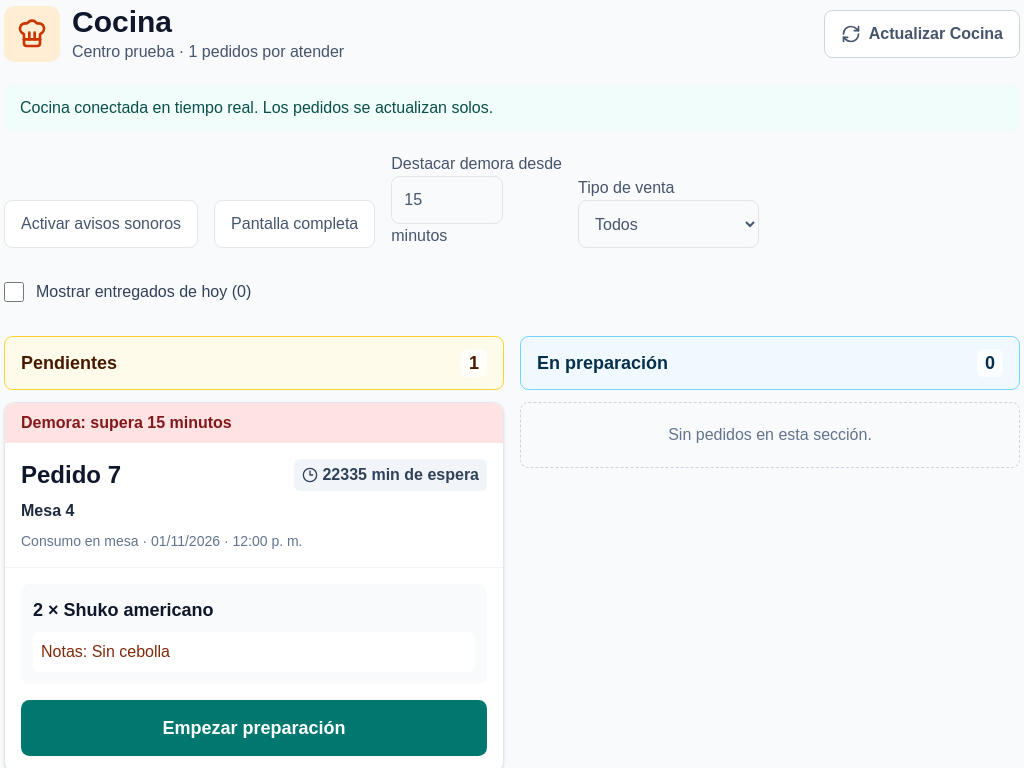
Scenario: Pantalla Cocina › un conflicto actualiza el estado y muestra el error sin confirmar un cambio fallido
This screenshot has width=1024, height=768.
Click the button with aria-label "Empezar preparación: pedido 7".
click(254, 728)  # box [21, 700, 487, 756]
(page scrolled)
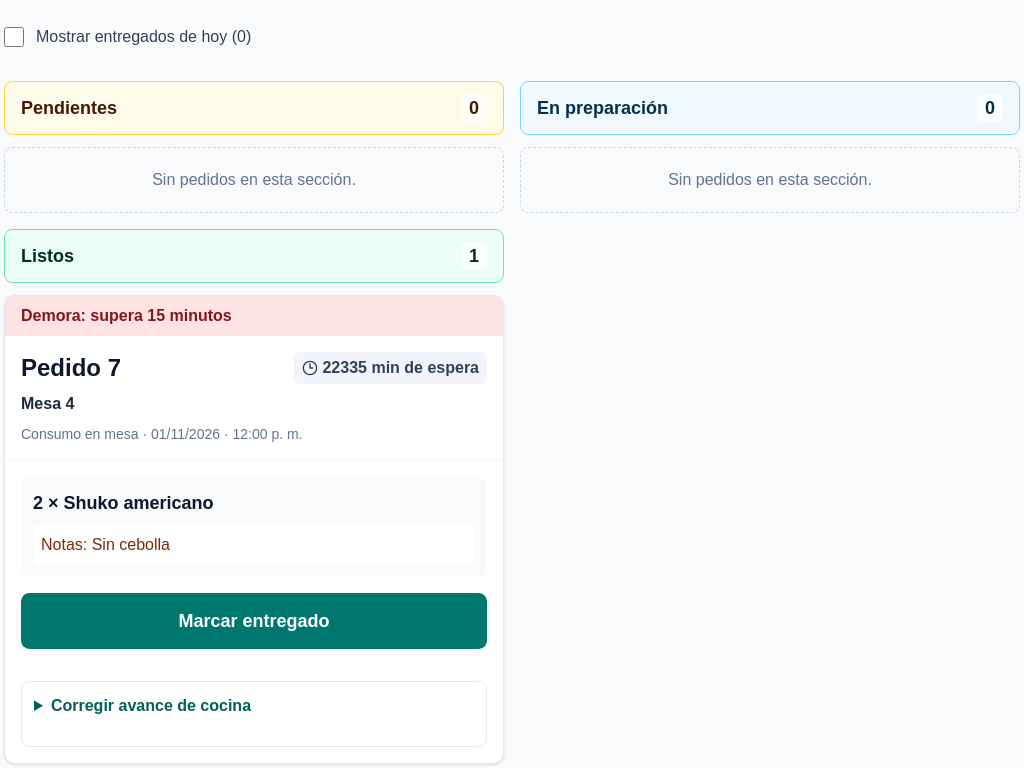
Check: the button with aria-label "Marcar entregado: pedido 7" is shown, box [21, 593, 487, 649]
